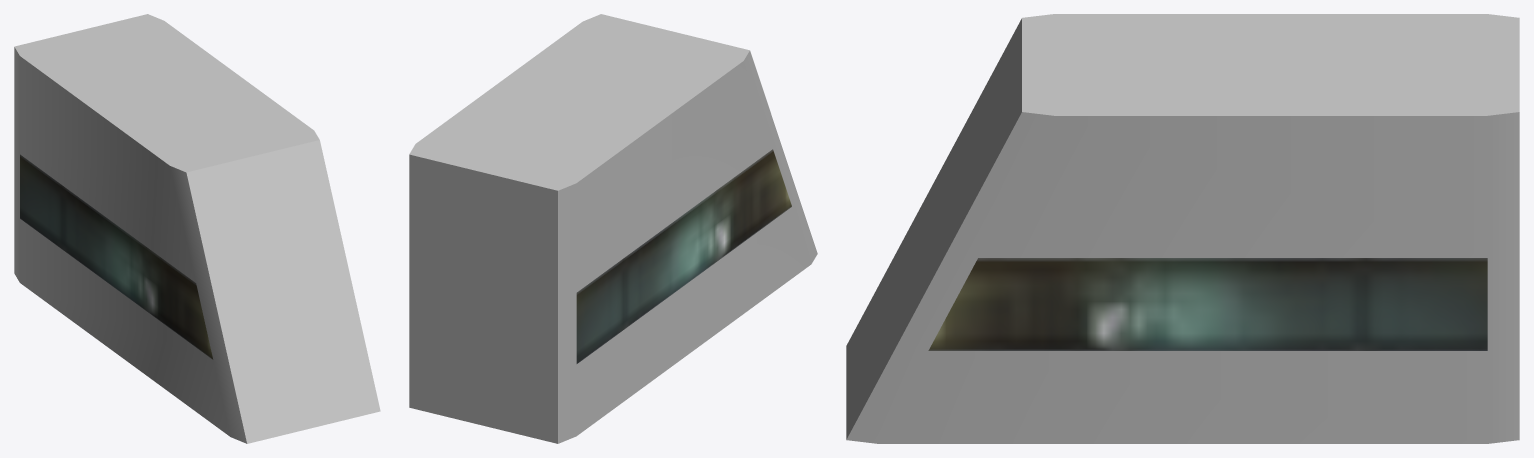
Rendered from hirise_top40a.fbx.
3 renders of one model, left to right at view 1: azimuth 30°, elevation 25°; view 2: azimuth 150°, elevation 25°; view 3: azimuth 270°, elevation 25°, orthographic. The views are drawn at different scales.
Visible parts, largest first — view 1: hirise_top40a; view 2: hirise_top40a; view 3: hirise_top40a.
Boxes of the visible parts, x1,y1,x2,y2 form: hirise_top40a: [14, 14, 380, 443]; hirise_top40a: [409, 14, 817, 443]; hirise_top40a: [846, 14, 1519, 443].
Bounding box in the file's own units: 4.47 × 6.71 × 12.48.
